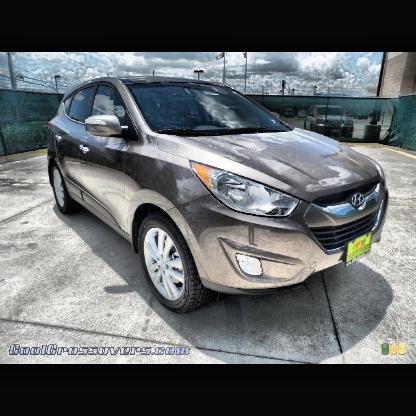Hyundai Tucson SUV 2012: (44, 72, 391, 321)
